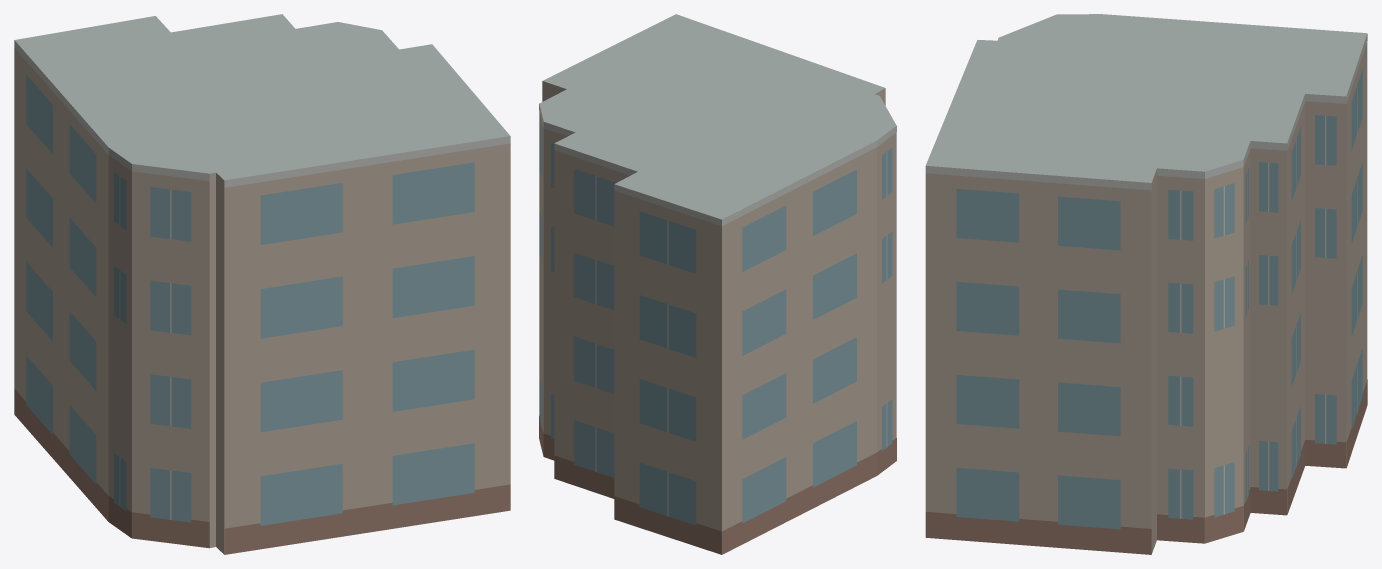
Rendered from survey-upis-32976616.glb.
The picture shows the model from 3 angles, left to right: view 1: azimuth 30°, elevation 25°; view 2: azimuth 150°, elevation 25°; view 3: azimuth 270°, elevation 25°; orthographic projection. The views are drawn at different scales.
Visible parts, largest first — view 1: survey-upis-32976616.tmp; view 2: survey-upis-32976616.tmp; view 3: survey-upis-32976616.tmp.
Boxes of the visible parts, box(x1,y1,x2,y2) form: survey-upis-32976616.tmp: box(14, 14, 510, 554); survey-upis-32976616.tmp: box(539, 14, 896, 554); survey-upis-32976616.tmp: box(925, 14, 1367, 554).
Size of the model in its own units: 12 by 12.3 by 13.26.
